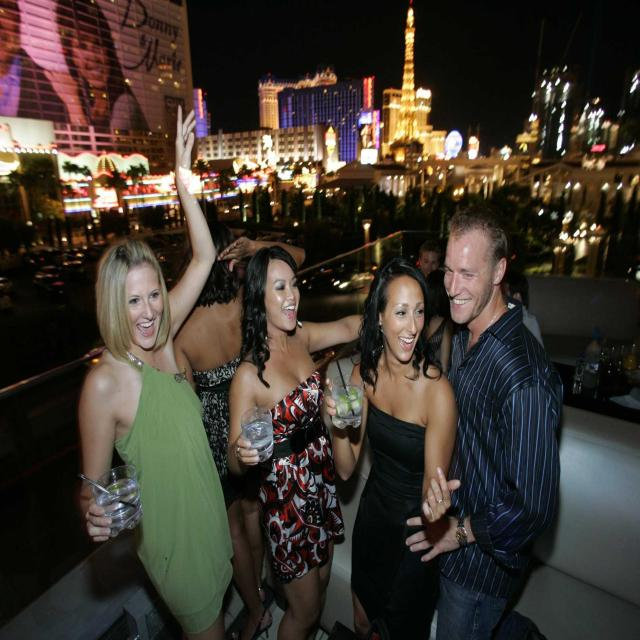body: (70, 98, 236, 640), (403, 196, 567, 640), (7, 154, 638, 248), (168, 217, 308, 639), (226, 242, 374, 640), (320, 252, 462, 640), (0, 0, 157, 132), (418, 266, 454, 374), (500, 268, 546, 352), (419, 240, 440, 278)
